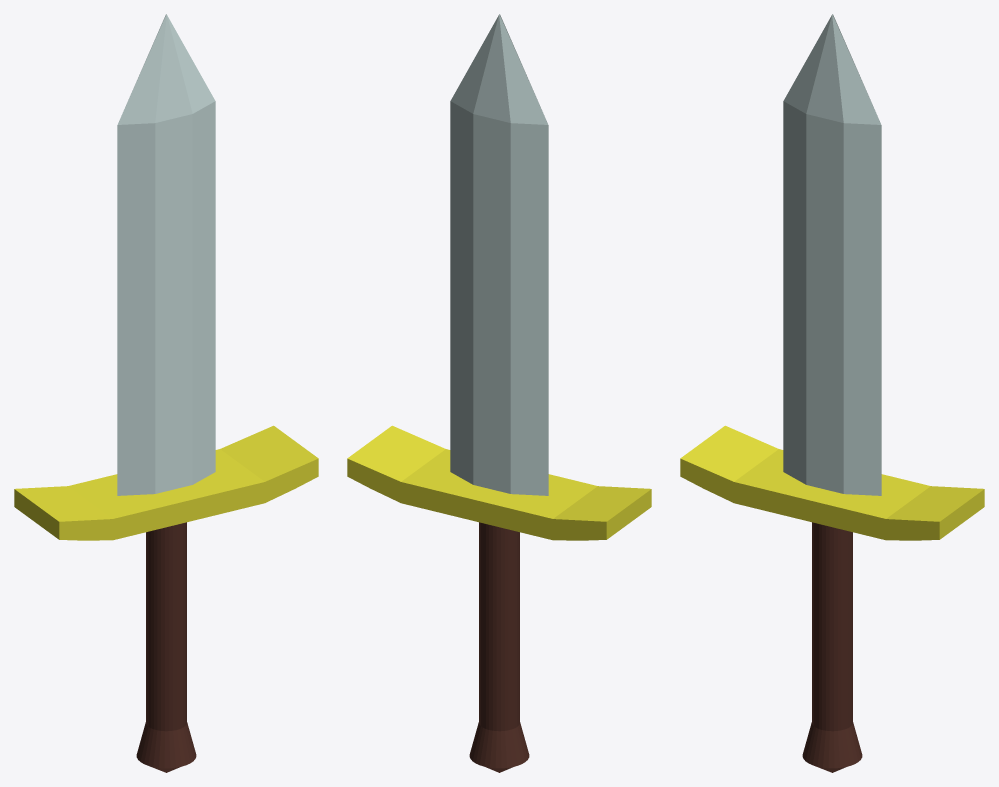
The model's file is simpleSword.fbx.
3 renders of one model, left to right at view 1: azimuth 30°, elevation 25°; view 2: azimuth 150°, elevation 25°; view 3: azimuth 330°, elevation 25°, orthographic.
Visible parts, largest first — view 1: Blade, Guard, Handle; view 2: Blade, Guard, Handle; view 3: Blade, Guard, Handle.
Part boxes in pixels (box(x1,y1,x2,y2)): Blade: box(117, 14, 215, 495); Guard: box(14, 425, 318, 540); Handle: box(136, 522, 196, 772); Blade: box(450, 14, 548, 495); Guard: box(347, 425, 651, 540); Handle: box(469, 522, 529, 772); Blade: box(783, 14, 881, 495); Guard: box(680, 425, 984, 540); Handle: box(802, 522, 862, 772).
Size of the model in its own units: 200 by 559 by 60.
